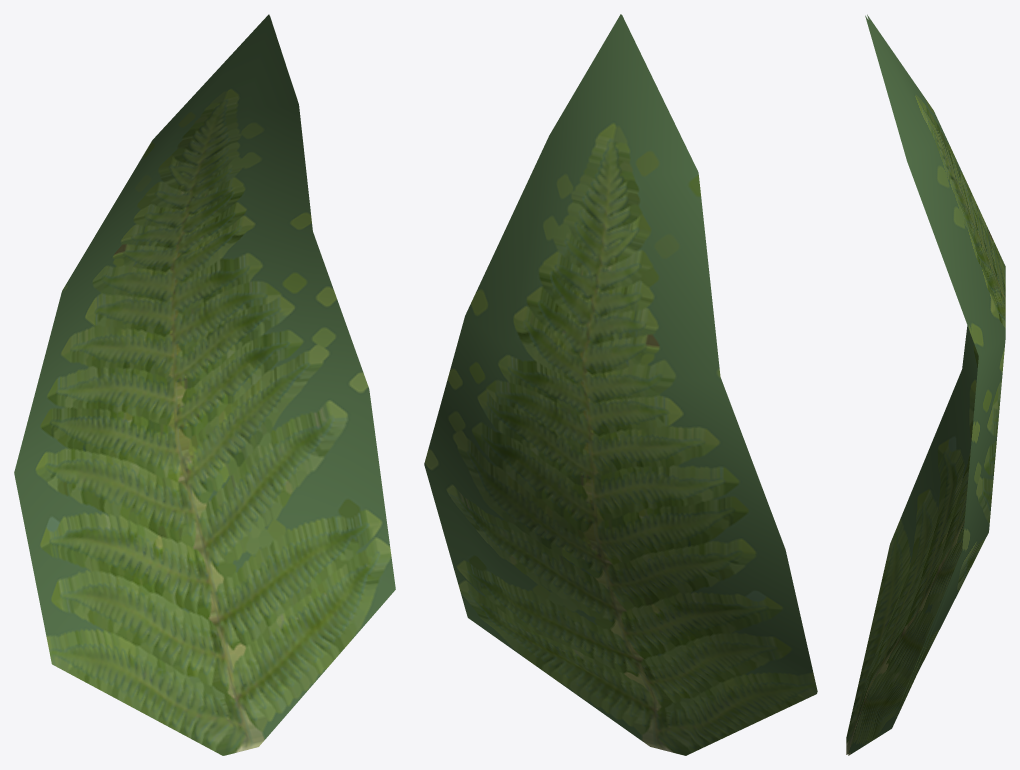
File: fern.fbx
The picture shows the model from 3 angles, left to right: view 1: azimuth 30°, elevation 25°; view 2: azimuth 150°, elevation 25°; view 3: azimuth 270°, elevation 25°; orthographic projection. The views are drawn at different scales.
Visible parts, largest first — view 1: fern; view 2: fern; view 3: fern.
Boxes of the visible parts, x1,y1,x2,y2 form: fern: (14, 14, 395, 755); fern: (424, 14, 817, 755); fern: (846, 14, 1005, 755).
Bounding box in the file's own units: 0.4798 × 0.9333 × 0.1791.
